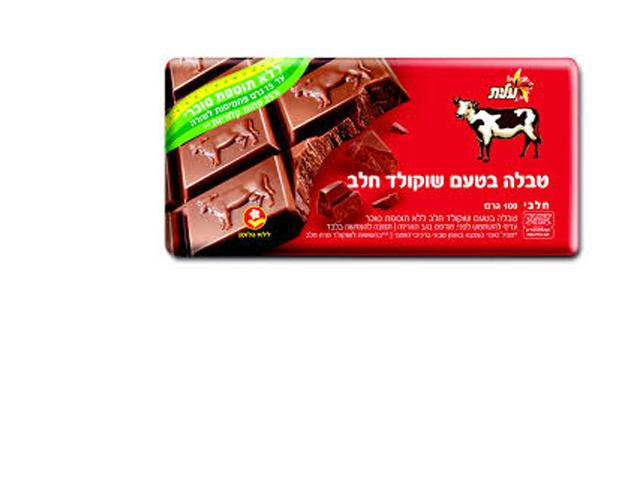chocolate: (163, 49, 592, 277)
